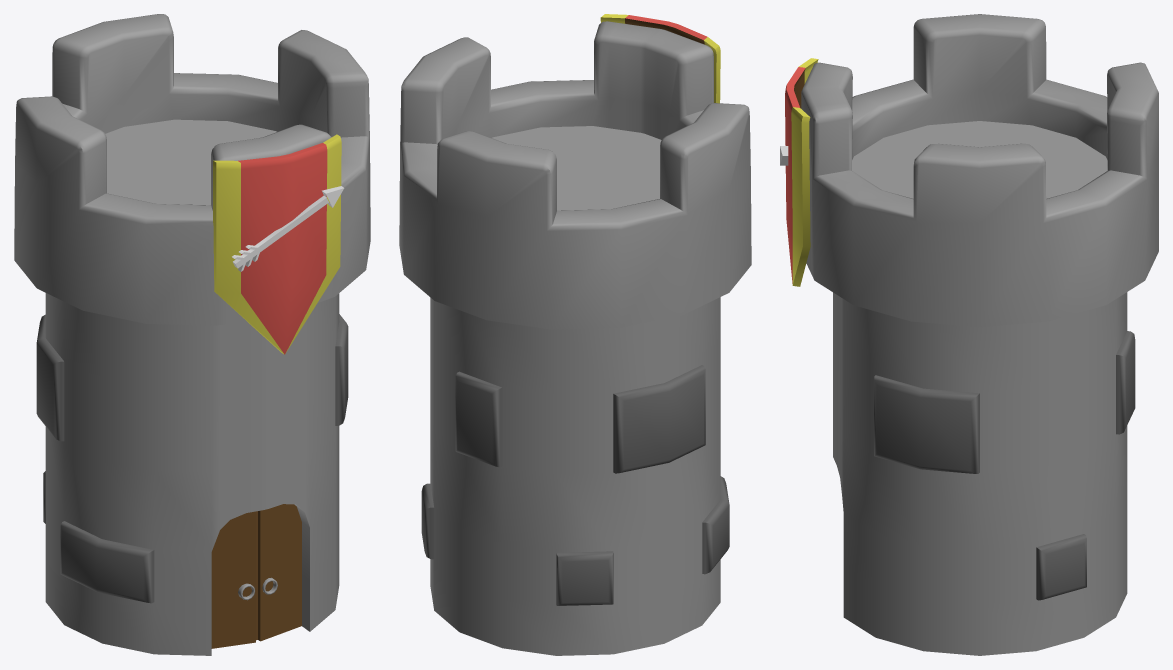
Rendered from Single arrow tower.fbx.
3 views of the same model, side by side, from view 1: azimuth 30°, elevation 25°; view 2: azimuth 150°, elevation 25°; view 3: azimuth 270°, elevation 25° (orthographic).
Parts seen in each view (by area): view 1: Arrow_Tower; view 2: Arrow_Tower; view 3: Arrow_Tower.
Boxes of the visible parts, bbox=[...] form: Arrow_Tower: bbox=[14, 14, 370, 655]; Arrow_Tower: bbox=[399, 14, 751, 655]; Arrow_Tower: bbox=[780, 14, 1158, 655].
Size of the model in its own units: 4.95 by 7.72 by 5.23.
